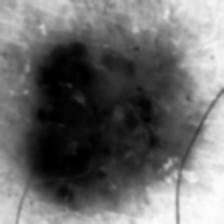Potentially Malignant Skin Tumors: (13, 34, 174, 206)
